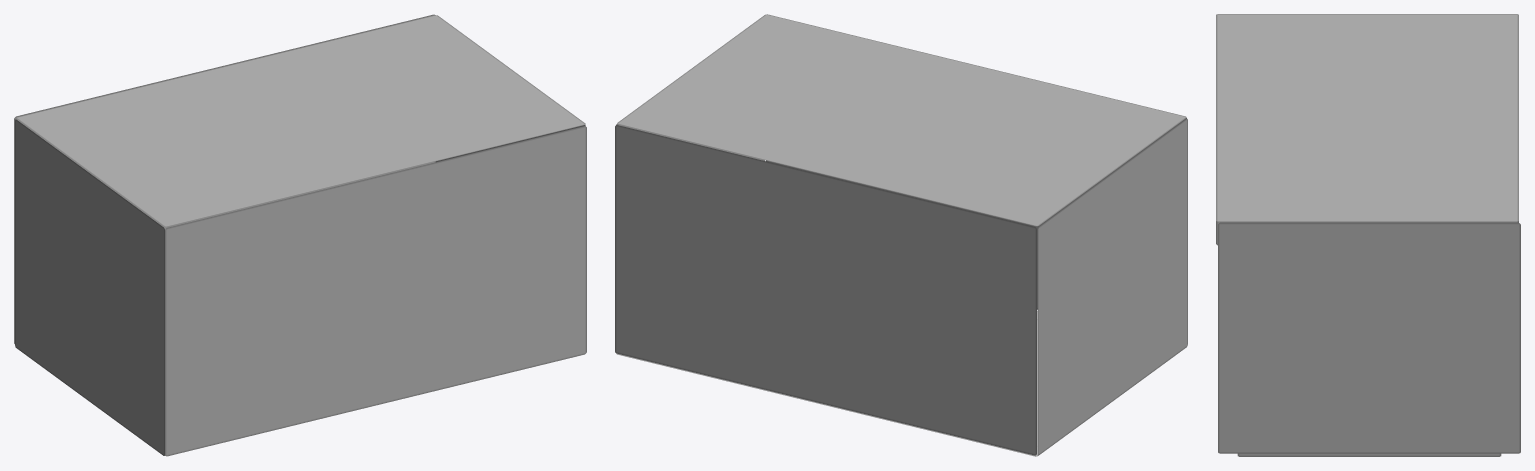
The model's file is pz_counter_dark_wall.obj.
The picture shows the model from 3 angles, left to right: view 1: azimuth 30°, elevation 25°; view 2: azimuth 150°, elevation 25°; view 3: azimuth 270°, elevation 25°; orthographic projection.
Size of the model in its own units: 1 by 0.536 by 0.62.
1 material, 1 textured.
